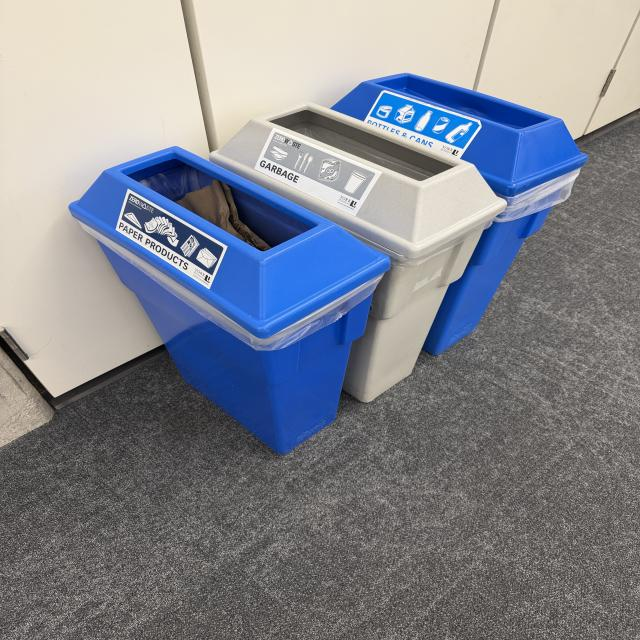Dustbin: (70, 74, 588, 456)
